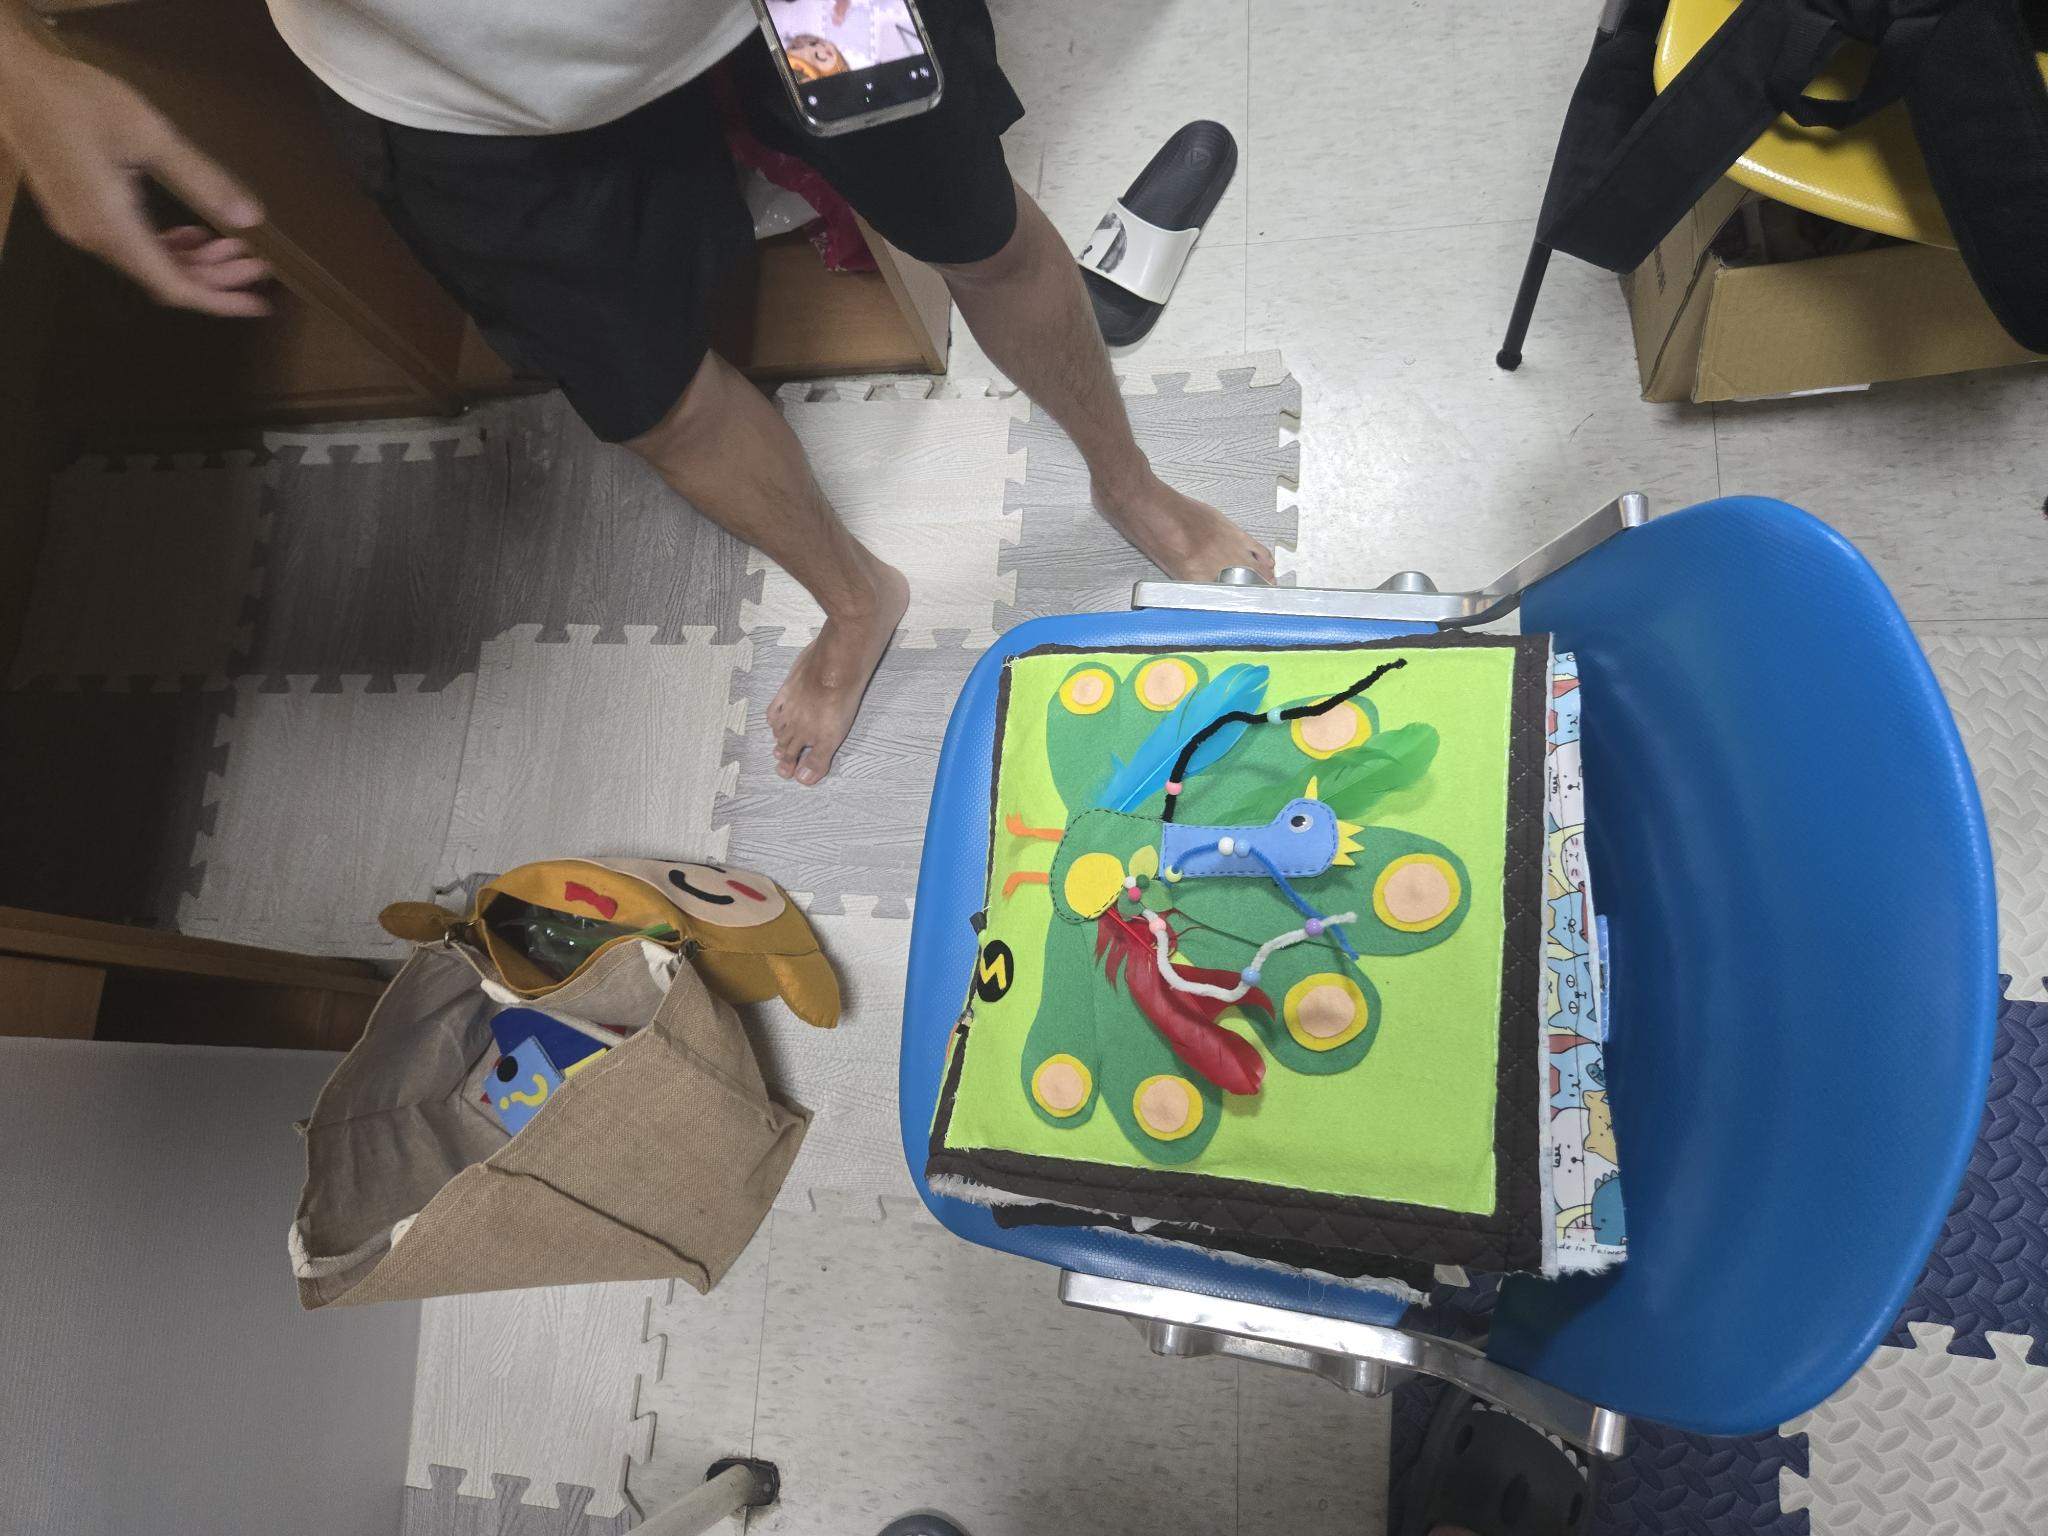bead: (1292, 902, 1338, 950), (1245, 694, 1288, 742), (1229, 816, 1264, 870), (1235, 945, 1269, 992), (1137, 904, 1169, 941), (1153, 771, 1185, 805), (1208, 833, 1234, 865), (1163, 852, 1182, 886)
